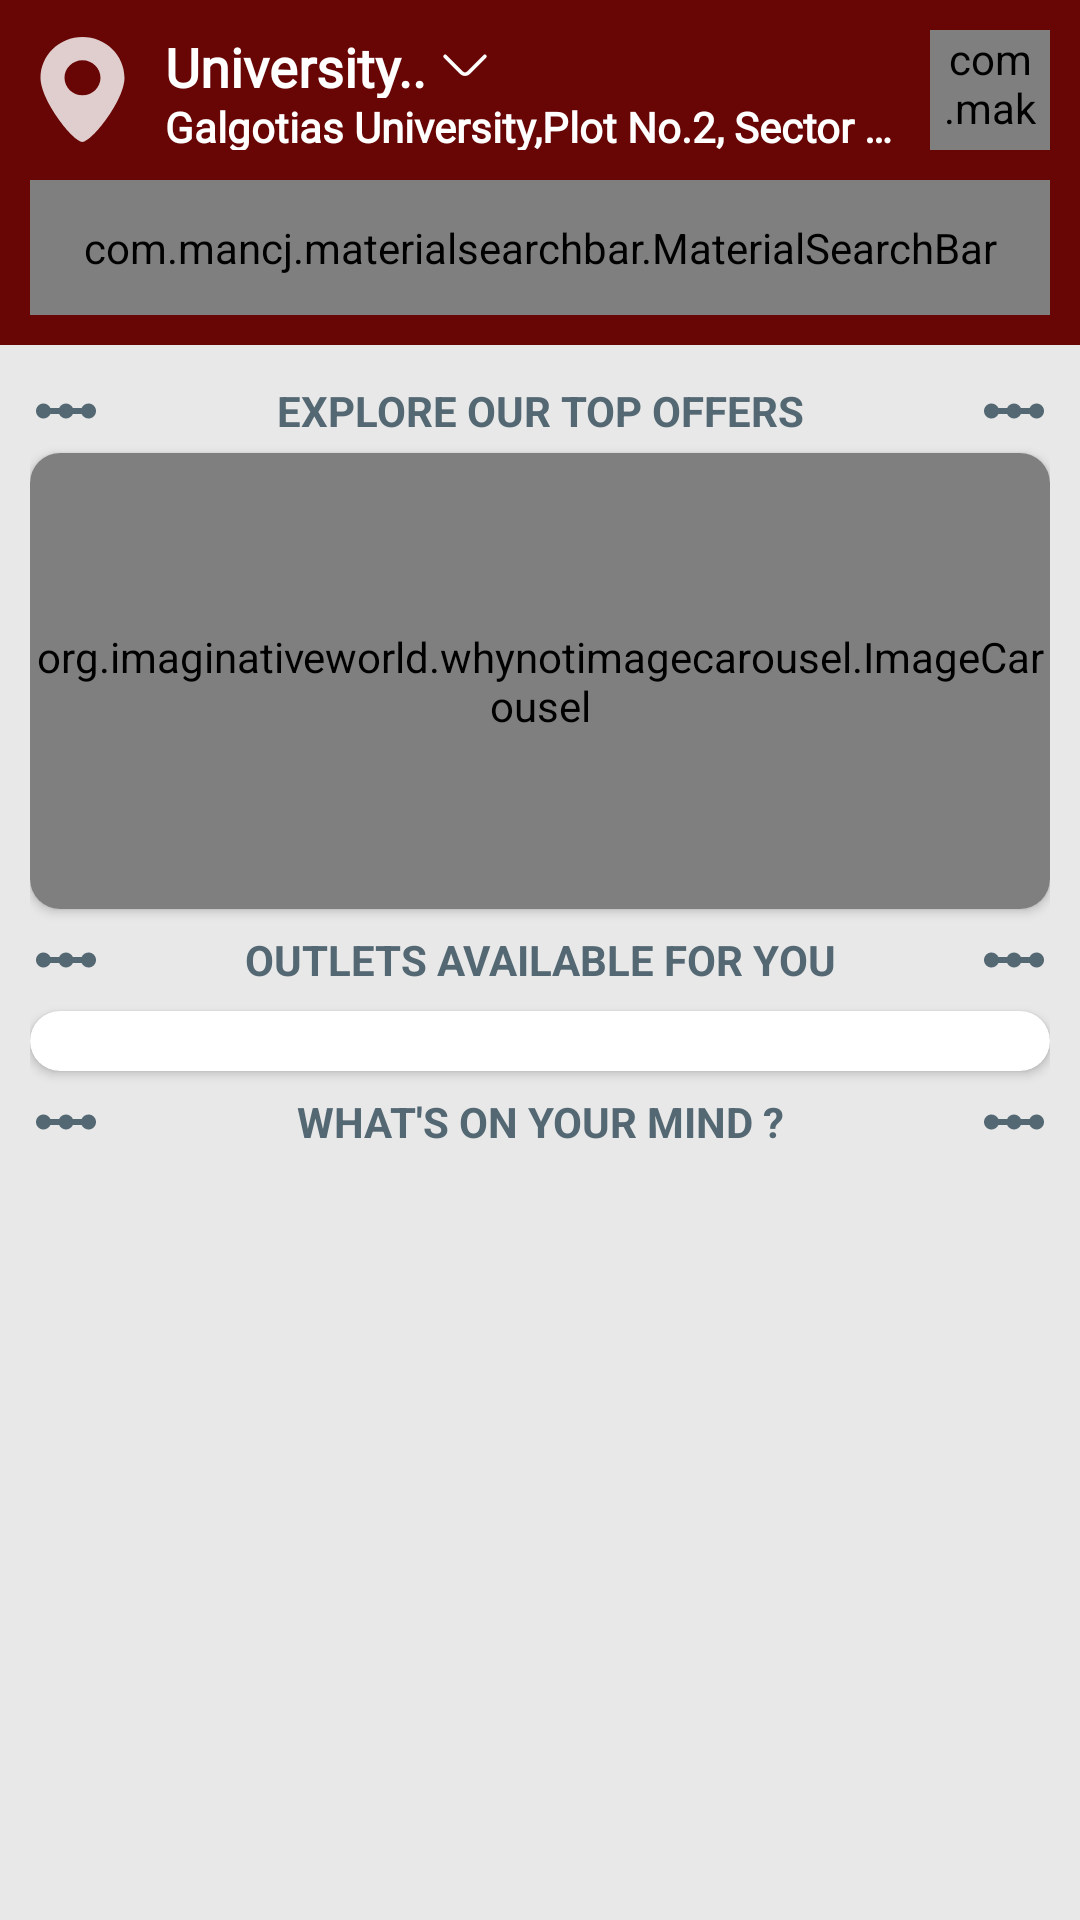

Where to tap for icons on this 1080px x 1920px app screen, as (x,y):
locationicon: (82,89)
